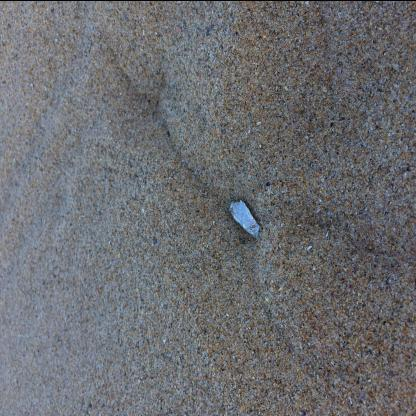metal: (230, 200, 260, 239)
